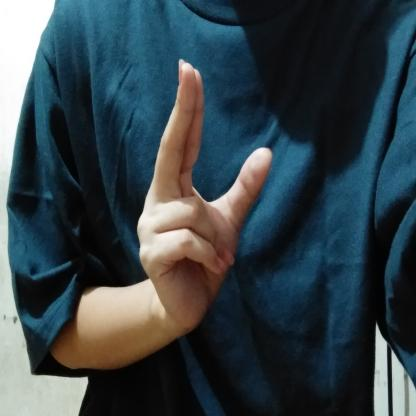who: (127, 55, 278, 340)
